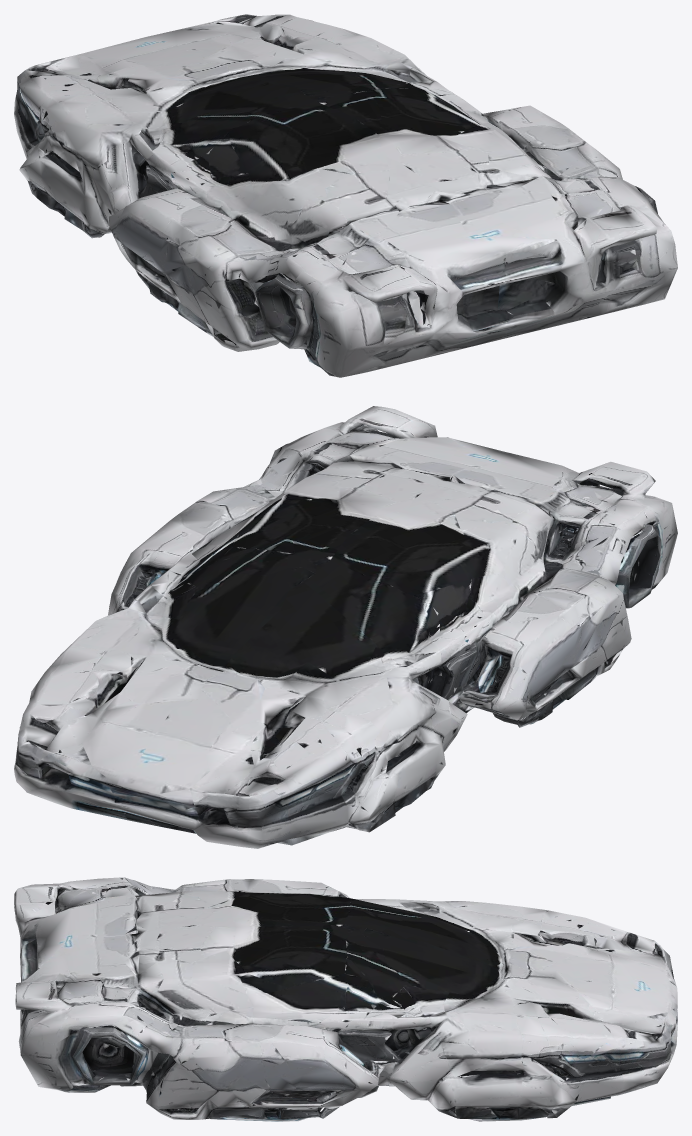
The model's file is tide-hovercar.glb.
The picture shows the model from 3 angles, top to bottom: view 1: azimuth 30°, elevation 25°; view 2: azimuth 150°, elevation 25°; view 3: azimuth 270°, elevation 25°; orthographic projection. The views are drawn at different scales.
Parts seen in each view (by area): view 1: body_mesh; view 2: body_mesh; view 3: body_mesh.
Boxes of the visible parts, bbox=[...] form: body_mesh: bbox=[14, 14, 677, 377]; body_mesh: bbox=[14, 406, 677, 848]; body_mesh: bbox=[14, 877, 677, 1121].
Bounding box in the file's own units: 3.59 × 1.25 × 5.81.
Materials: 1 (1 with a texture image).
